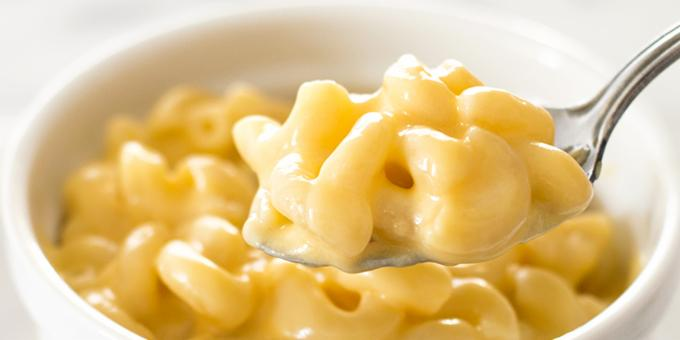macncheese: (75, 53, 607, 338)
